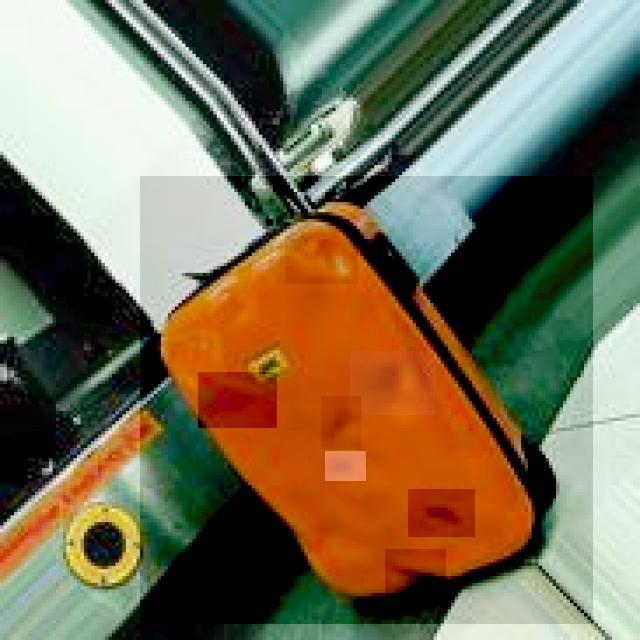Damage-bag: (350, 351, 435, 414), (285, 235, 358, 284), (409, 490, 475, 537), (321, 396, 361, 450)
